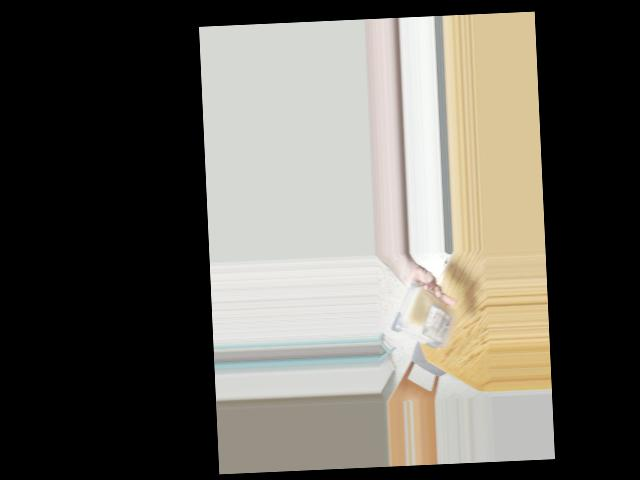cheese: (401, 285, 453, 347)
